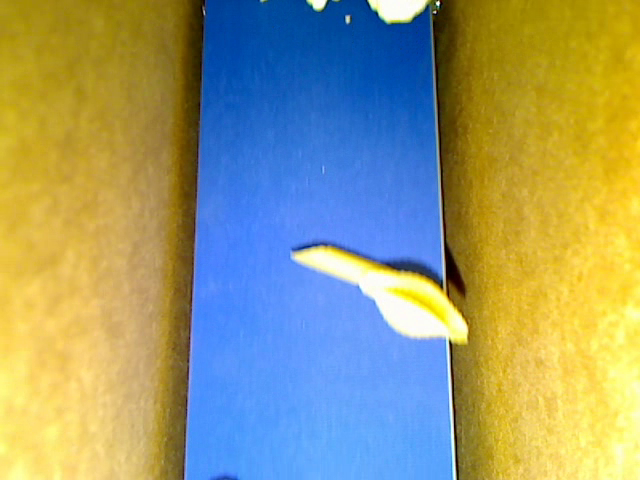penne: (290, 243, 394, 287)
shell: (358, 270, 469, 344)
